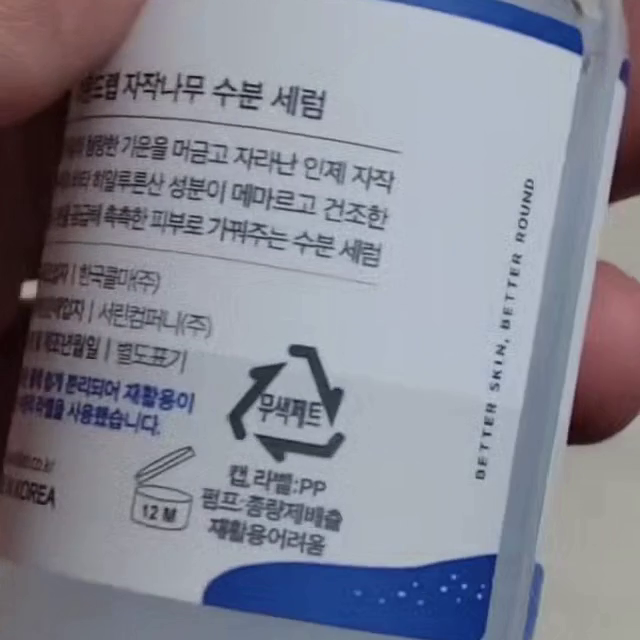ColorlessPet: (226, 341, 344, 462)
